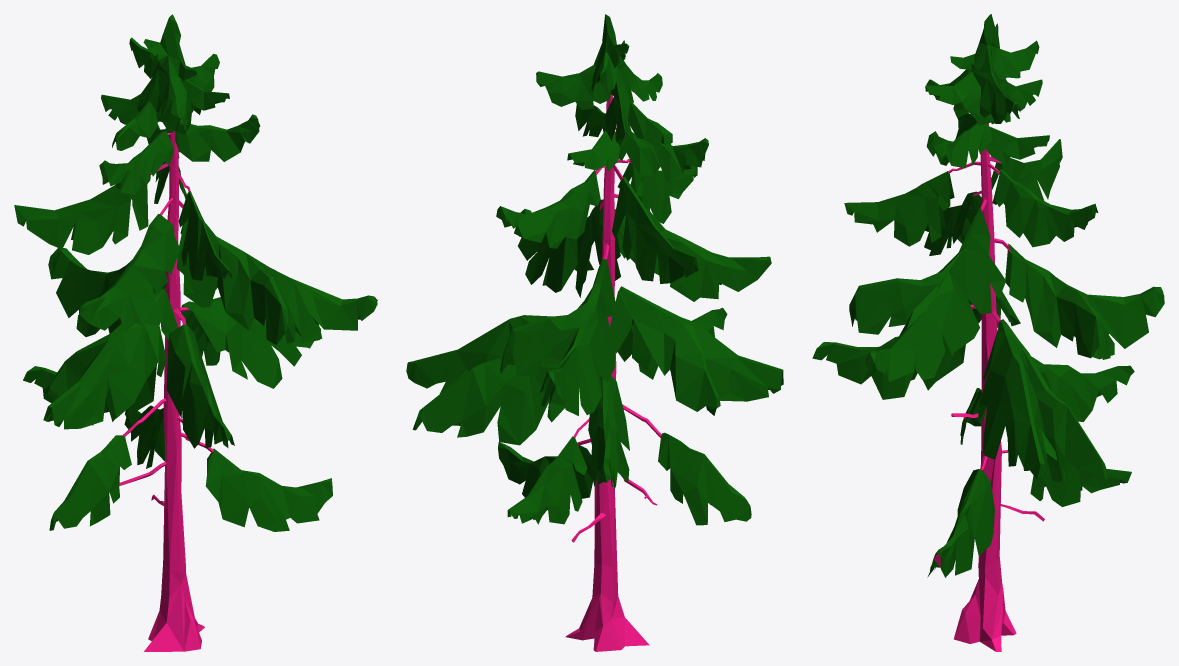
File: SM_Tree_Spruce_Young_B.fbx
The picture shows the model from 3 angles, left to right: view 1: azimuth 30°, elevation 25°; view 2: azimuth 150°, elevation 25°; view 3: azimuth 270°, elevation 25°; orthographic projection.
Parts seen in each view (by area): view 1: SM_Tree_Spruce_Young_B; view 2: SM_Tree_Spruce_Young_B; view 3: SM_Tree_Spruce_Young_B.
Boxes of the visible parts, left/top/right/bottom form: SM_Tree_Spruce_Young_B: left=14, top=14, right=377, bottom=651; SM_Tree_Spruce_Young_B: left=406, top=14, right=783, bottom=651; SM_Tree_Spruce_Young_B: left=812, top=14, right=1164, bottom=651.
Size of the model in its own units: 4.41 by 8.1 by 4.16.
